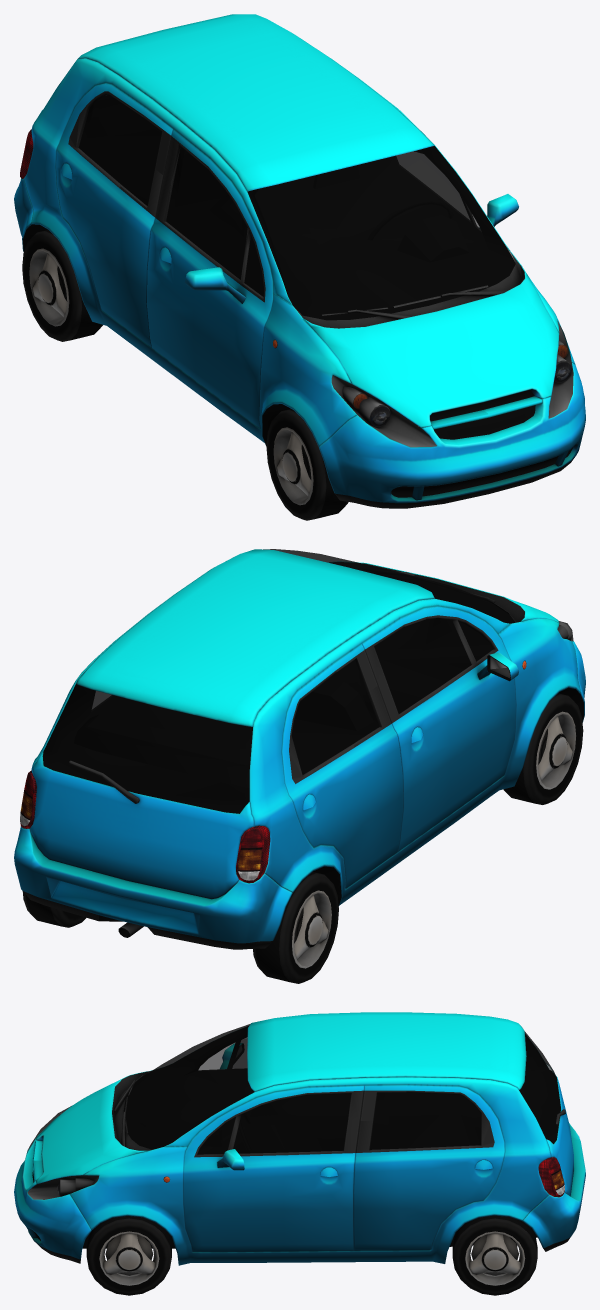
The model's file is veicolo_utilitaria.glb.
The picture shows the model from 3 angles, top to bottom: view 1: azimuth 30°, elevation 25°; view 2: azimuth 150°, elevation 25°; view 3: azimuth 270°, elevation 25°; orthographic projection. The views are drawn at different scales.
Parts seen in each view (by area): view 1: sb_modello; view 2: sb_modello; view 3: sb_modello.
Boxes of the visible parts, <box> form: sb_modello: <box>14,14,585,520</box>; sb_modello: <box>14,549,585,983</box>; sb_modello: <box>14,1012,585,1295</box>.
Bounding box in the file's own units: 1.61 × 1.32 × 3.26.
Materials: 4 (3 with a texture image).
